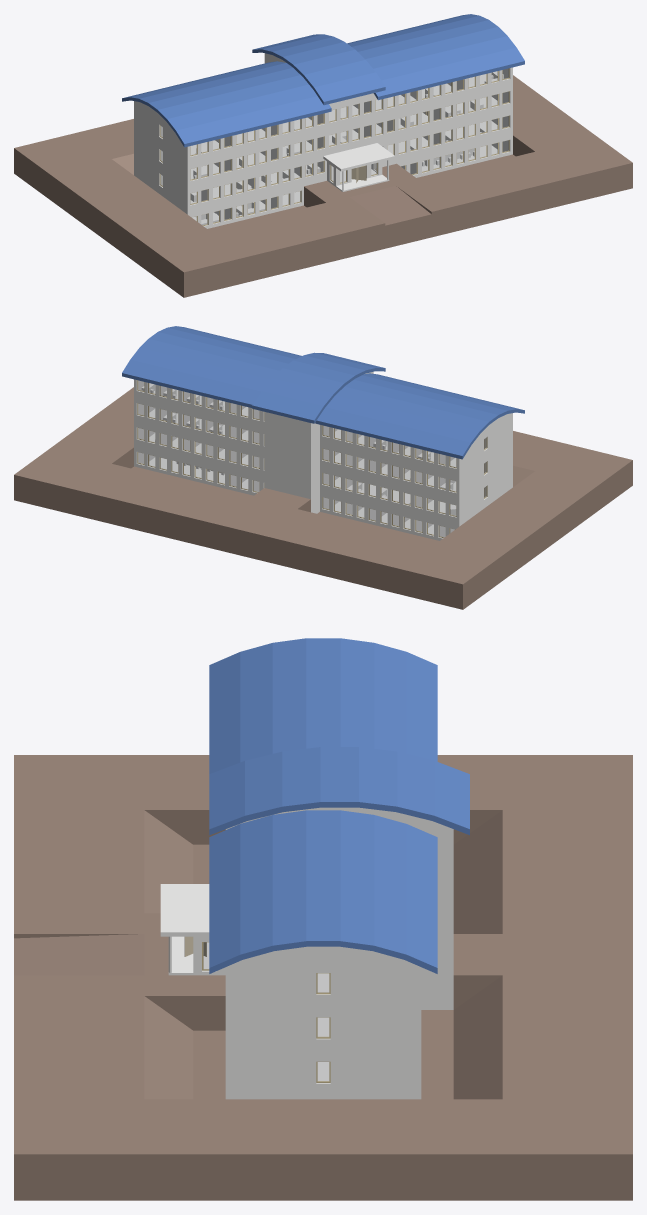
File: Office Building.ifc.glb
The picture shows the model from 3 angles, top to bottom: view 1: azimuth 30°, elevation 25°; view 2: azimuth 150°, elevation 25°; view 3: azimuth 270°, elevation 25°; orthographic projection. The views are drawn at different scales.
Parts seen in each view (by area): view 1: 1b0aQcLSb6KP4cEKR_kZZp, 2udBPbKibCZ8zbfpJmtDTM, 2V1MCFZRf1GA2ZyRufjYwX, 2Og5$70yb1DxR1TY1w8bzN, 3x663a8XD65viEHNLVdTxd, 3qT9lE$bTCQB_T41jFK_q6, 2oOoWKmmfChQTLCBzuB3$b, 3nHMcJ8q56uR8twwvBap_b, 3EtzNx_Z1BD9$bnmCd_7Ak, 01Hsj8Zoj47f3xDgoQzQH_, 3Kn4W2ZqD4K8KzX7iS3xhj, 3QoJ6BxnbEJAsAxl5gQcR_ (+18 smaller); view 2: 1b0aQcLSb6KP4cEKR_kZZp, 01DPZ9SBn5r9Sivd0bV8Ar, 1GL3Bl4yrCY9XKlcdMQiXb, 1r7dVjs_50zw9skBo0gwIq, 3EYxooj415QgvrtcQsy2Kh, 3BIJVubgnERQcs0rJzA8XO, 2LES77BC56KQ3R7uNhrxe2, 0hEXM06OrA5gv_ZOu0dPhm, 1sX1eJEdn4tx6WnOEIL8As, 0aqwE82KP5aAe5kL$$RBxu, 0NhW4VLIbBiuXKiyGrq3kz, 1gOmYslDr1suTYoJuY1bx$ (+24 smaller); view 3: 1b0aQcLSb6KP4cEKR_kZZp, 3qMdsXfXrAvuL60mUR_8Vj, 0FQY4AQwf2dup5RArZ6ZOG, 1urUcYP71DIf1u38ogU1RV, 2j5_0TlNP02vq$h$fhXZI2, 03TjDzhOTFX9jbLMrZ04Ko, 1m13_kW2X8DhPK7Uom15kV, 1sX1eJEdn4tx6WnOEIL8As, 01Q5XSApT1A8MVwFMrw27s, 1GL3Bl4yrCY9XKlcdMQiXb, 3qT9lE$bTCQB_T41jFK_q6, 2Og5$70yb1DxR1TY1w8bzN (+20 smaller).
Part boxes in pixels (x1=…): 1b0aQcLSb6KP4cEKR_kZZp: x1=14, y1=75, x2=632, y2=297; 2udBPbKibCZ8zbfpJmtDTM: x1=187, y1=88, x2=512, y2=188; 2V1MCFZRf1GA2ZyRufjYwX: x1=187, y1=67, x2=512, y2=164; 2Og5$70yb1DxR1TY1w8bzN: x1=134, y1=97, x2=512, y2=191; 3x663a8XD65viEHNLVdTxd: x1=175, y1=96, x2=331, y2=147; 3qT9lE$bTCQB_T41jFK_q6: x1=373, y1=47, x2=524, y2=100; 2oOoWKmmfChQTLCBzuB3$b: x1=189, y1=136, x2=512, y2=228; 3nHMcJ8q56uR8twwvBap_b: x1=187, y1=158, x2=326, y2=213; 3EtzNx_Z1BD9$bnmCd_7Ak: x1=134, y1=74, x2=512, y2=167; 01Hsj8Zoj47f3xDgoQzQH_: x1=376, y1=112, x2=512, y2=167; 3Kn4W2ZqD4K8KzX7iS3xhj: x1=166, y1=84, x2=317, y2=132; 3QoJ6BxnbEJAsAxl5gQcR_: x1=134, y1=121, x2=512, y2=215; 1b0aQcLSb6KP4cEKR_kZZp: x1=14, y1=387, x2=632, y2=609; 01DPZ9SBn5r9Sivd0bV8Ar: x1=315, y1=407, x2=471, y2=459; 1GL3Bl4yrCY9XKlcdMQiXb: x1=122, y1=359, x2=261, y2=407; 1r7dVjs_50zw9skBo0gwIq: x1=320, y1=469, x2=459, y2=525; 3EYxooj415QgvrtcQsy2Kh: x1=320, y1=445, x2=459, y2=500; 3BIJVubgnERQcs0rJzA8XO: x1=134, y1=400, x2=264, y2=453; 2LES77BC56KQ3R7uNhrxe2: x1=134, y1=424, x2=264, y2=477; 0hEXM06OrA5gv_ZOu0dPhm: x1=326, y1=396, x2=480, y2=444; 1sX1eJEdn4tx6WnOEIL8As: x1=130, y1=348, x2=270, y2=391; 0aqwE82KP5aAe5kL$$RBxu: x1=320, y1=425, x2=459, y2=476; 0NhW4VLIbBiuXKiyGrq3kz: x1=335, y1=386, x2=489, y2=433; 1gOmYslDr1suTYoJuY1bx$: x1=134, y1=379, x2=264, y2=429; 1b0aQcLSb6KP4cEKR_kZZp: x1=14, y1=755, x2=632, y2=1200; 3qMdsXfXrAvuL60mUR_8Vj: x1=225, y1=1012, x2=421, y2=1052; 0FQY4AQwf2dup5RArZ6ZOG: x1=225, y1=968, x2=421, y2=1008; 1urUcYP71DIf1u38ogU1RV: x1=225, y1=1057, x2=421, y2=1096; 2j5_0TlNP02vq$h$fhXZI2: x1=306, y1=810, x2=340, y2=946; 03TjDzhOTFX9jbLMrZ04Ko: x1=340, y1=810, x2=374, y2=950; 1m13_kW2X8DhPK7Uom15kV: x1=272, y1=810, x2=306, y2=950; 1sX1eJEdn4tx6WnOEIL8As: x1=373, y1=815, x2=406, y2=959; 01Q5XSApT1A8MVwFMrw27s: x1=240, y1=815, x2=273, y2=959; 1GL3Bl4yrCY9XKlcdMQiXb: x1=404, y1=824, x2=437, y2=973; 3qT9lE$bTCQB_T41jFK_q6: x1=209, y1=824, x2=242, y2=973; 2Og5$70yb1DxR1TY1w8bzN: x1=160, y1=884, x2=453, y2=1056.
Bounding box in the file's own units: 58 × 15.35 × 38.
